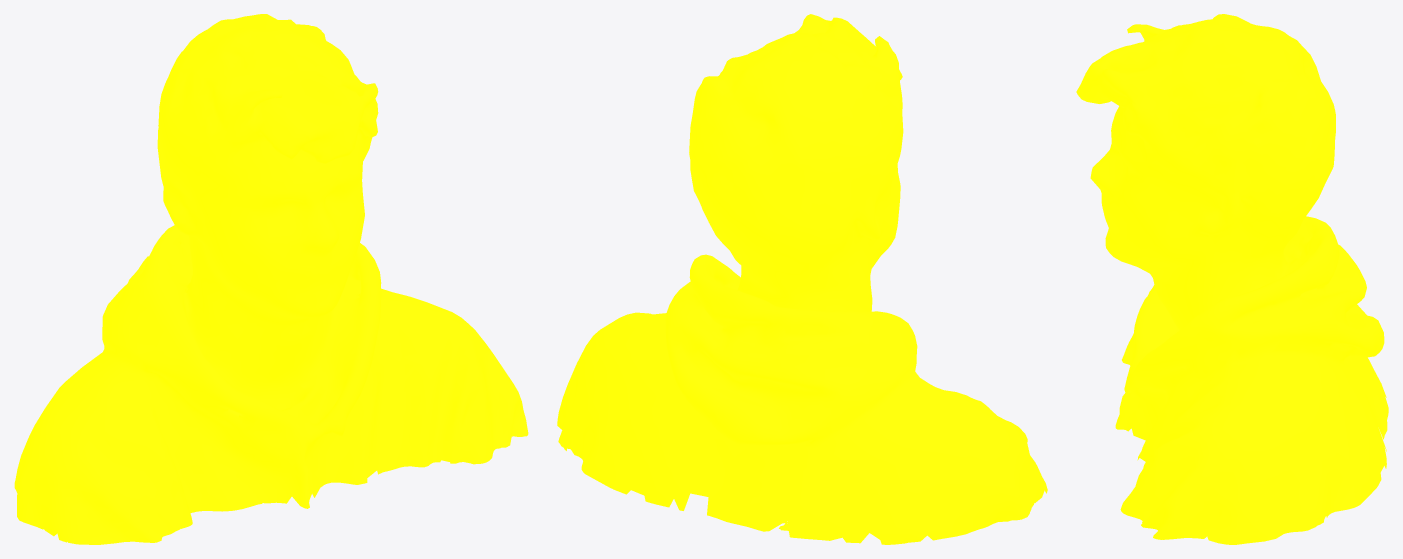
Rendered from ilan_metal.glb.
3 views of the same model, side by side, from view 1: azimuth 30°, elevation 25°; view 2: azimuth 150°, elevation 25°; view 3: azimuth 270°, elevation 25° (orthographic). The views are drawn at different scales.
Visible parts, largest first — view 1: ilan texture; view 2: ilan texture; view 3: ilan texture.
Boxes of the visible parts, x1,y1,x2,y2 form: ilan texture: (14, 14, 528, 544); ilan texture: (557, 14, 1047, 544); ilan texture: (1076, 14, 1388, 544).
Bounding box in the file's own units: 0.4895 × 0.4231 × 0.2918.
